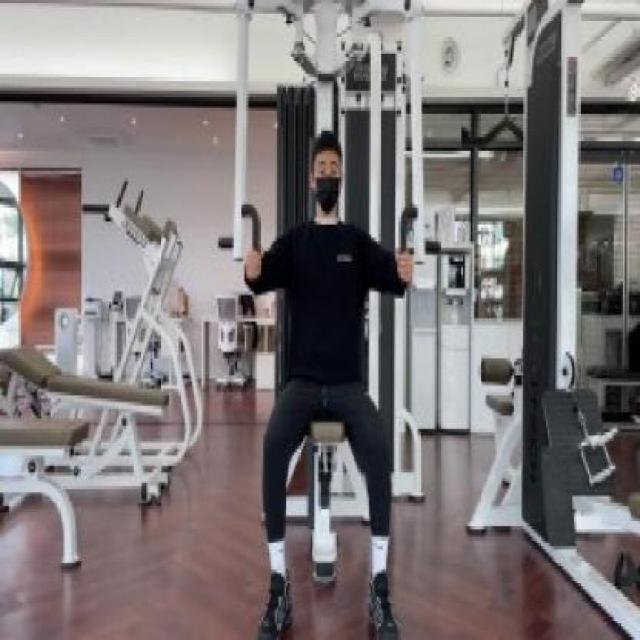chest fly machine: (178, 0, 454, 640)
